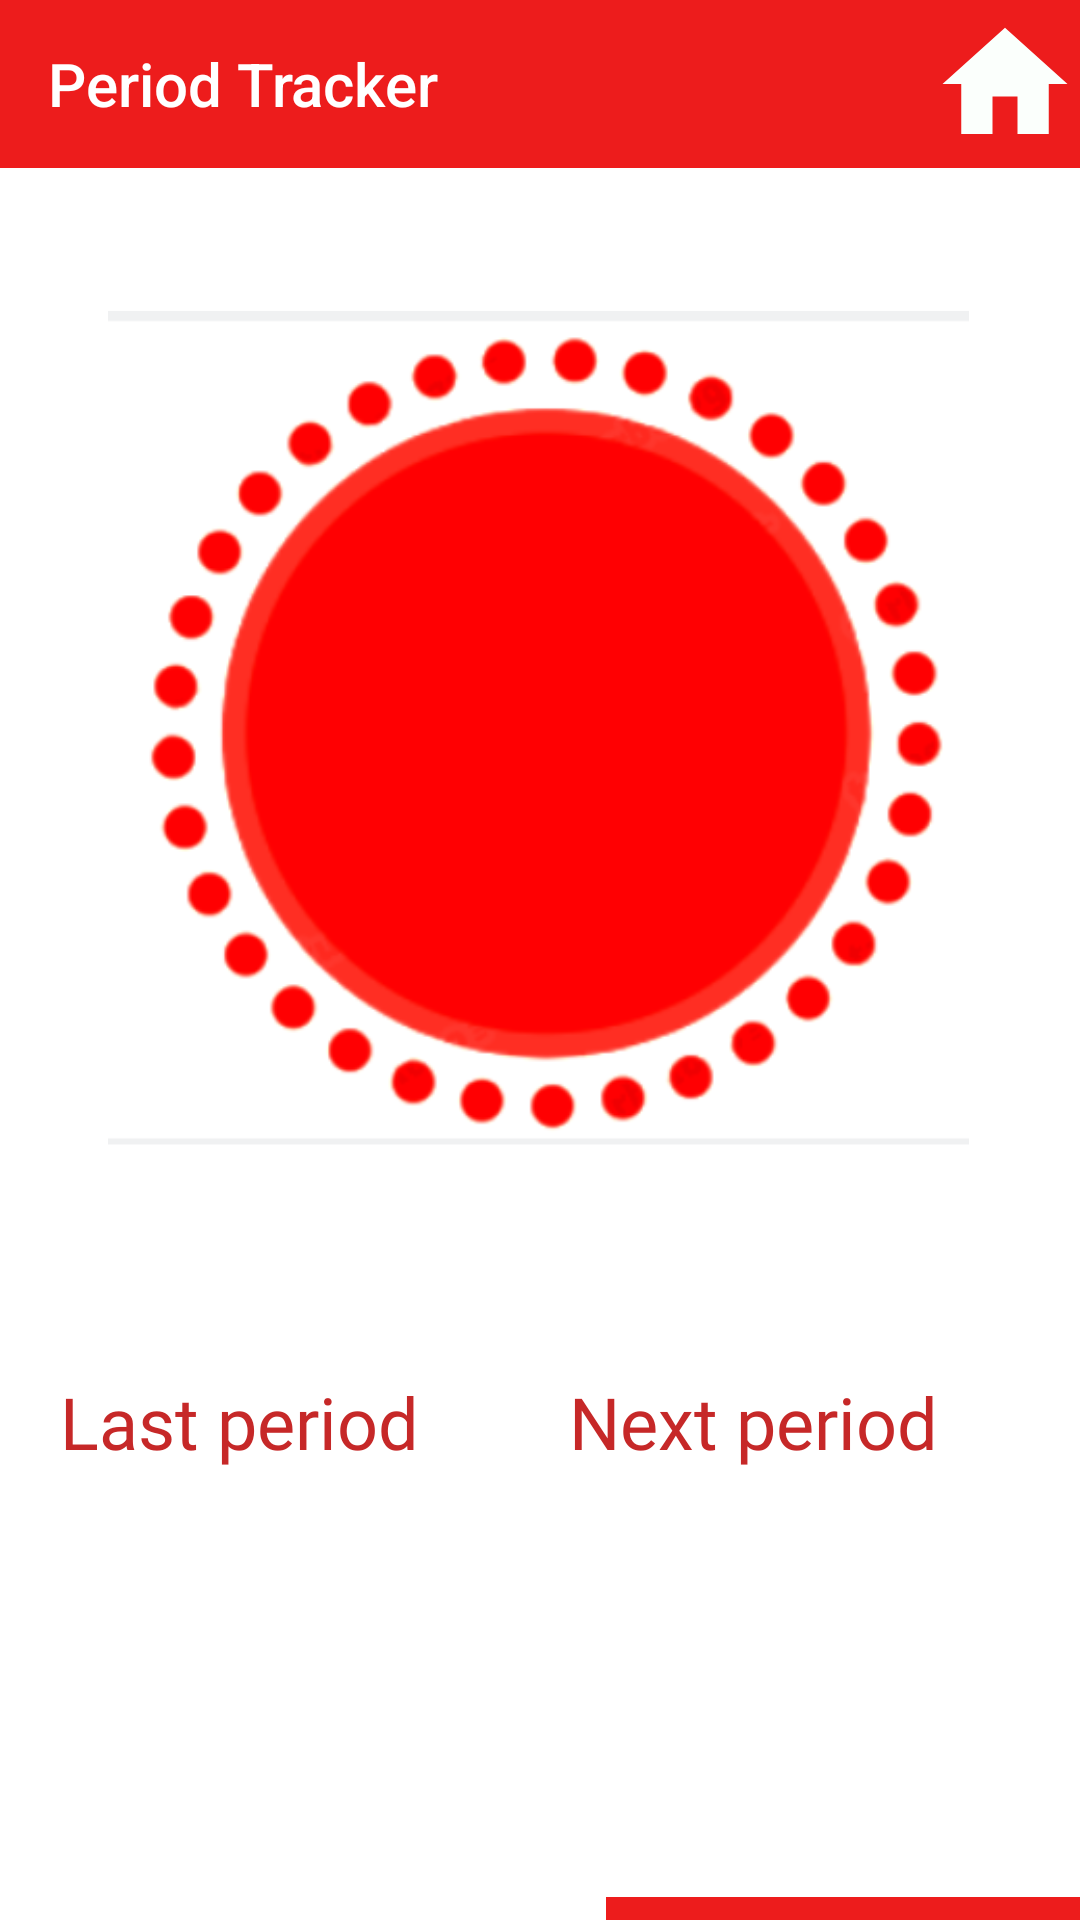

Icons on this 1080px x 1920px Android screen, each with its box as {"x1": x1, "y1": y1, "x2": x2, "y2": y2}:
home: {"x1": 943, "y1": 28, "x2": 1067, "y2": 134}
